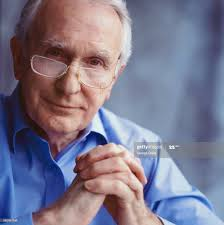Glasses: (29, 42, 119, 95)
